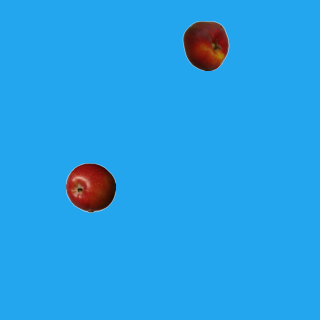Apple Braeburn: (65, 162, 115, 212)
Nectarine Flat: (180, 20, 230, 70)
